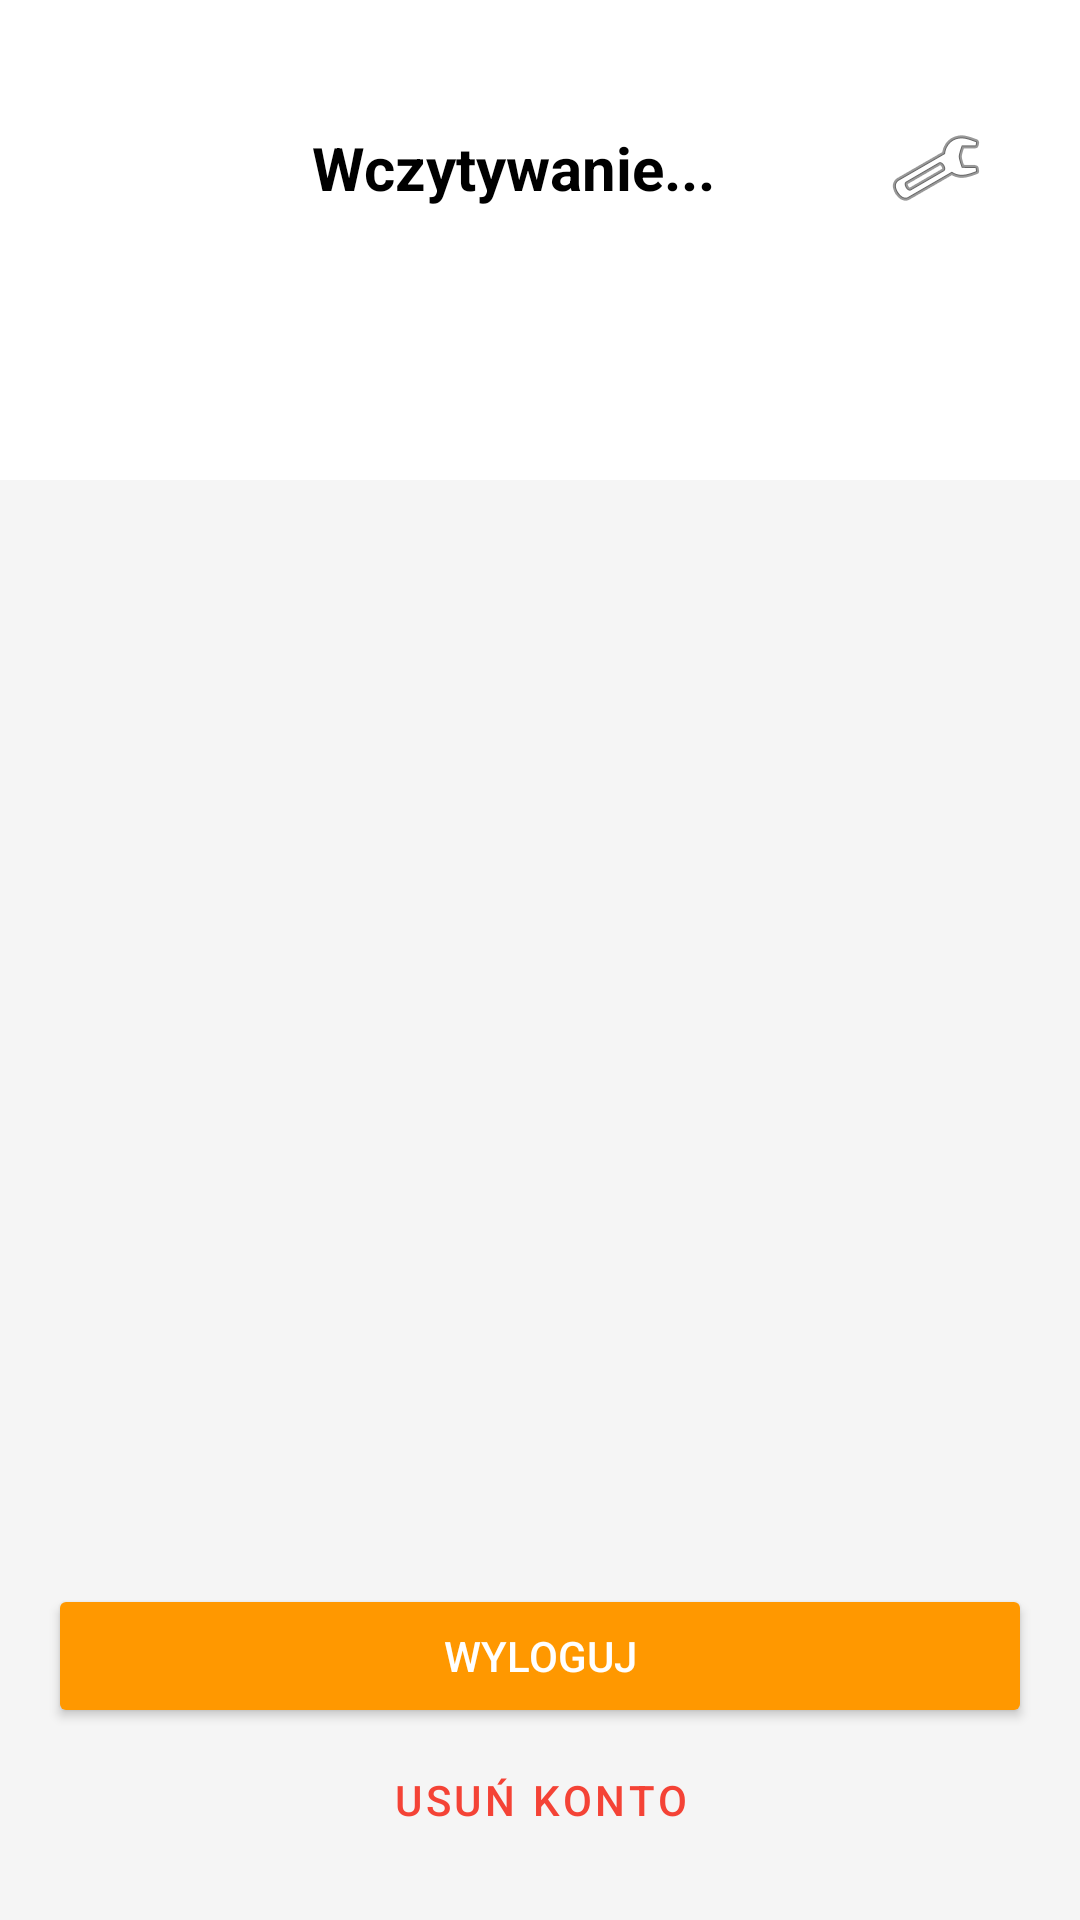

Screen size 1080w x 1920h. Icon name, then its center in pixels as [x,y]:
preferences: [936,168]
